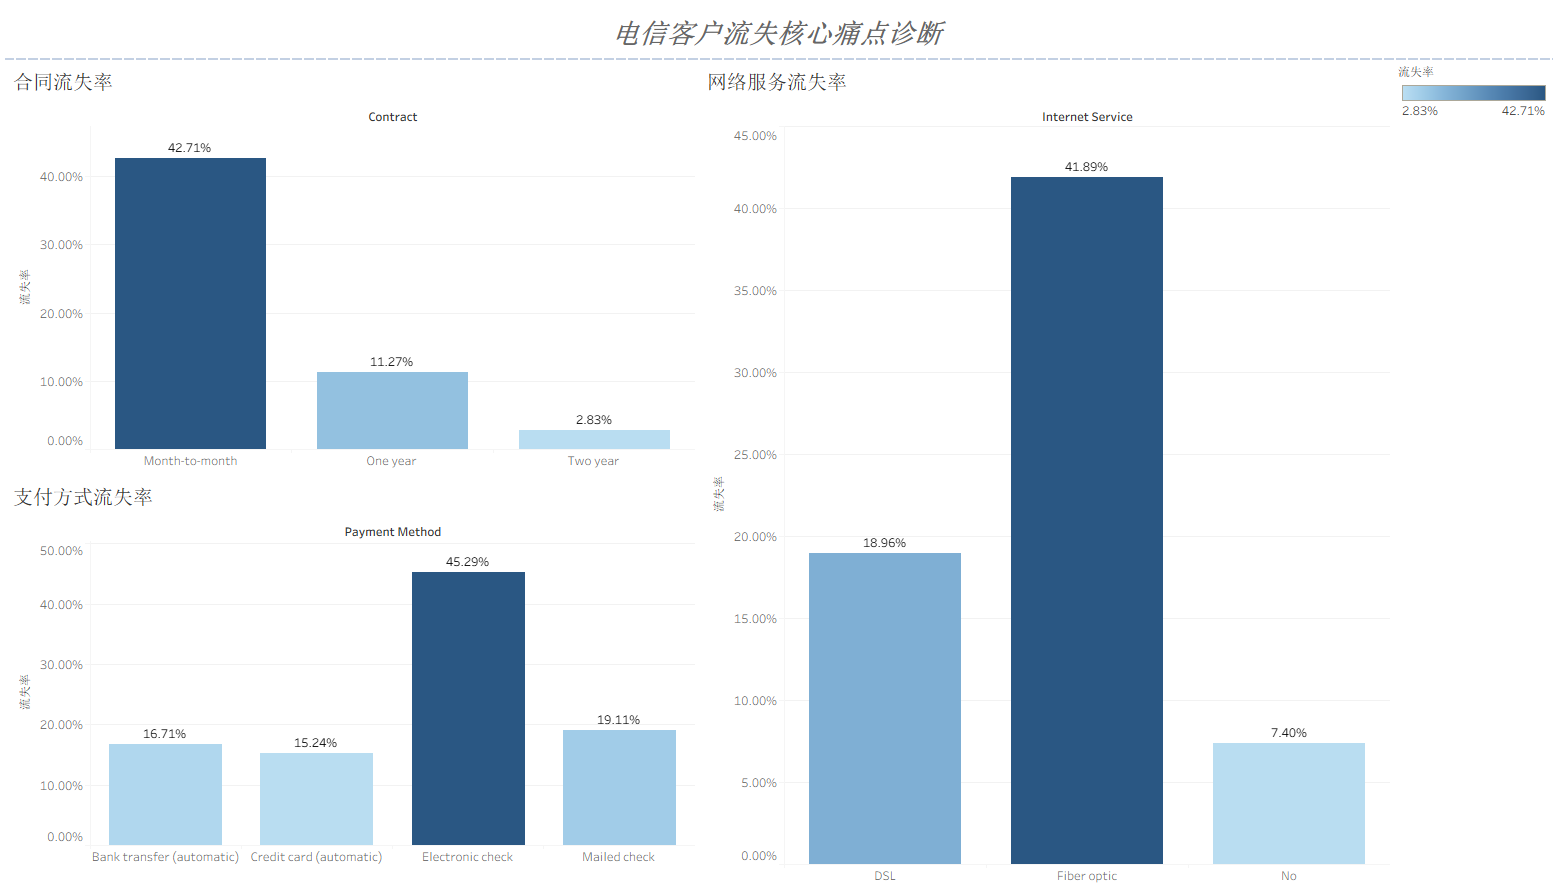

What the dashboard file says about the page in this screenshot:
{"tool":"tableau","page":{"name":"仪表板 1","canvas":[1000,1000],"units":"permille","ordinal":0},"visuals":[{"type":"text","box":[5.7,8.9,988.7,59]},{"type":"worksheet","title":"合同流失率","mark":"Automatic","rows":["Calculation_1659576499982589953"],"cols":["Contract"],"box":[5.7,67.8,437.7,461.6]},{"type":"worksheet","title":"网络服务流失率","mark":"Automatic","rows":["Calculation_1659576499982589953"],"cols":["InternetService"],"box":[443.4,67.8,437.8,923.2]},{"type":"legend","title":"合同流失率","param":"[federated.0p9ix6x1pn6nt113k4koc0ktd5ny].[usr:Calculation_1659576499982589953:qk","box":[881.2,67.8,113.2,72.3]},{"type":"worksheet","title":"支付方式流失率","mark":"Automatic","rows":["Calculation_1659576499982589953"],"cols":["PaymentMethod"],"box":[5.7,529.5,437.7,461.6]}]}

Visuals, with their boxes on the dashboard's canvas, which has no fixed pixel size, in thousandths of its width and height (x1, y1, x2, y2). These are canvas units, not pixel positions in the 1553x884 screenshot, which may show the page scaled, cropped or inside an application window:
text: BBox(6, 9, 994, 68)
"合同流失率" worksheet: BBox(6, 68, 443, 529)
"网络服务流失率" worksheet: BBox(443, 68, 881, 991)
"合同流失率" legend: BBox(881, 68, 994, 140)
"支付方式流失率" worksheet: BBox(6, 530, 443, 991)
